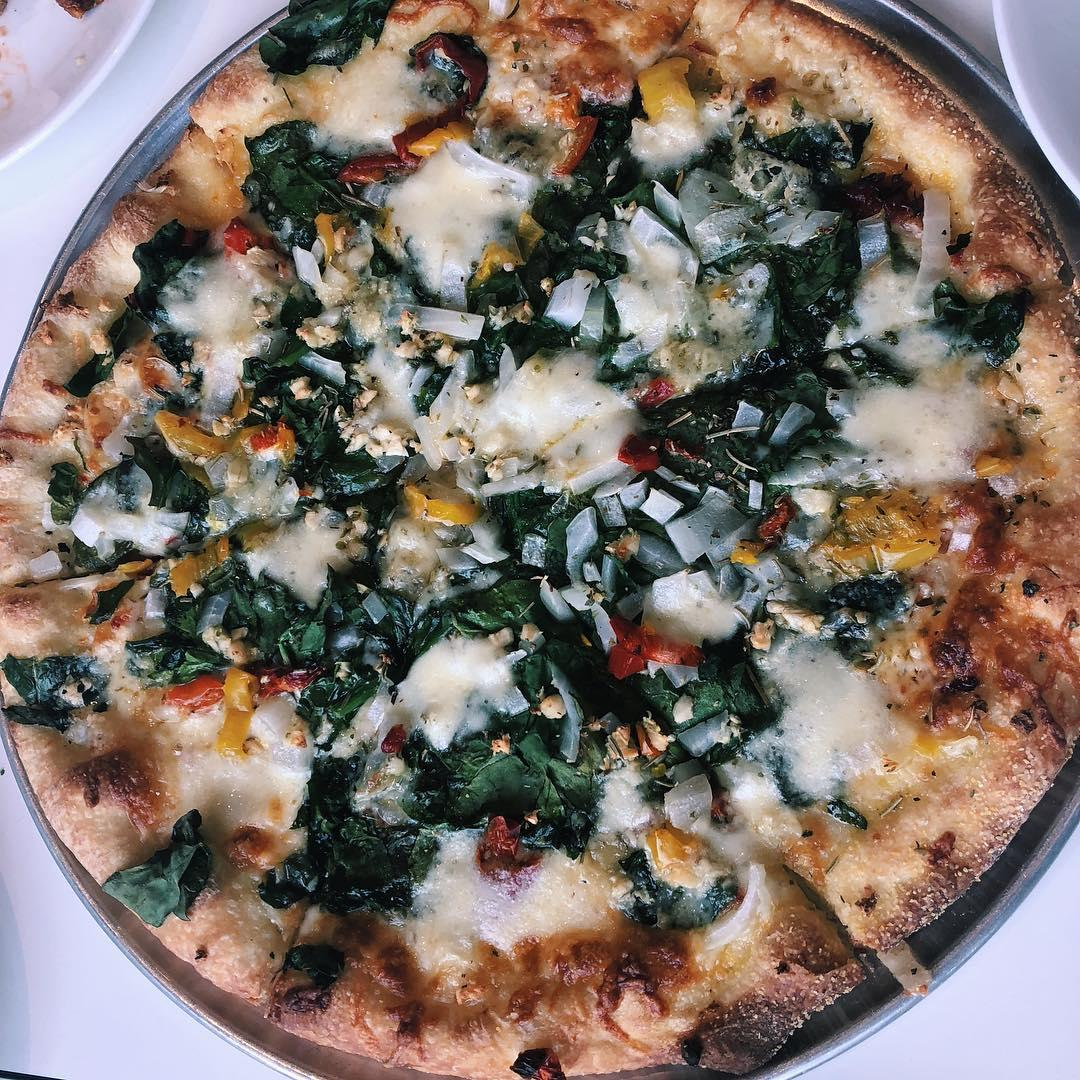Basil: (153, 559, 450, 743), (387, 695, 620, 859), (256, 745, 442, 924), (453, 475, 593, 708), (520, 89, 663, 307), (245, 336, 405, 501), (634, 363, 855, 467), (731, 208, 865, 376), (233, 110, 374, 244), (776, 103, 919, 230), (96, 800, 225, 937), (642, 644, 802, 745), (458, 254, 572, 390), (43, 431, 207, 516), (109, 212, 199, 351), (0, 644, 120, 737), (263, 0, 384, 82)
Onion: (611, 178, 687, 369), (676, 165, 825, 259), (911, 169, 956, 319), (191, 336, 252, 435), (663, 503, 749, 569), (544, 661, 585, 763), (384, 300, 489, 338), (662, 766, 711, 835), (558, 506, 599, 583), (676, 707, 738, 757), (543, 268, 599, 323), (618, 472, 675, 524), (770, 392, 814, 449), (536, 581, 598, 619), (196, 586, 237, 639), (853, 212, 892, 266), (66, 499, 107, 549), (291, 242, 327, 293), (720, 397, 764, 438), (824, 382, 862, 422), (595, 487, 625, 532), (26, 549, 62, 584), (143, 581, 171, 624)
Peppers: (811, 490, 945, 577), (389, 29, 495, 111), (592, 613, 705, 683), (616, 375, 687, 478), (628, 815, 719, 888), (627, 54, 702, 132), (209, 659, 261, 768), (548, 84, 603, 178), (468, 812, 539, 884), (141, 407, 233, 462), (153, 536, 237, 595), (397, 474, 479, 530), (454, 229, 532, 283), (394, 113, 481, 156), (338, 151, 404, 191), (964, 446, 1026, 485), (755, 491, 797, 544), (304, 210, 343, 267), (219, 210, 263, 259), (712, 534, 766, 564), (377, 719, 411, 756)
Pizza: (0, 0, 1080, 1080)
